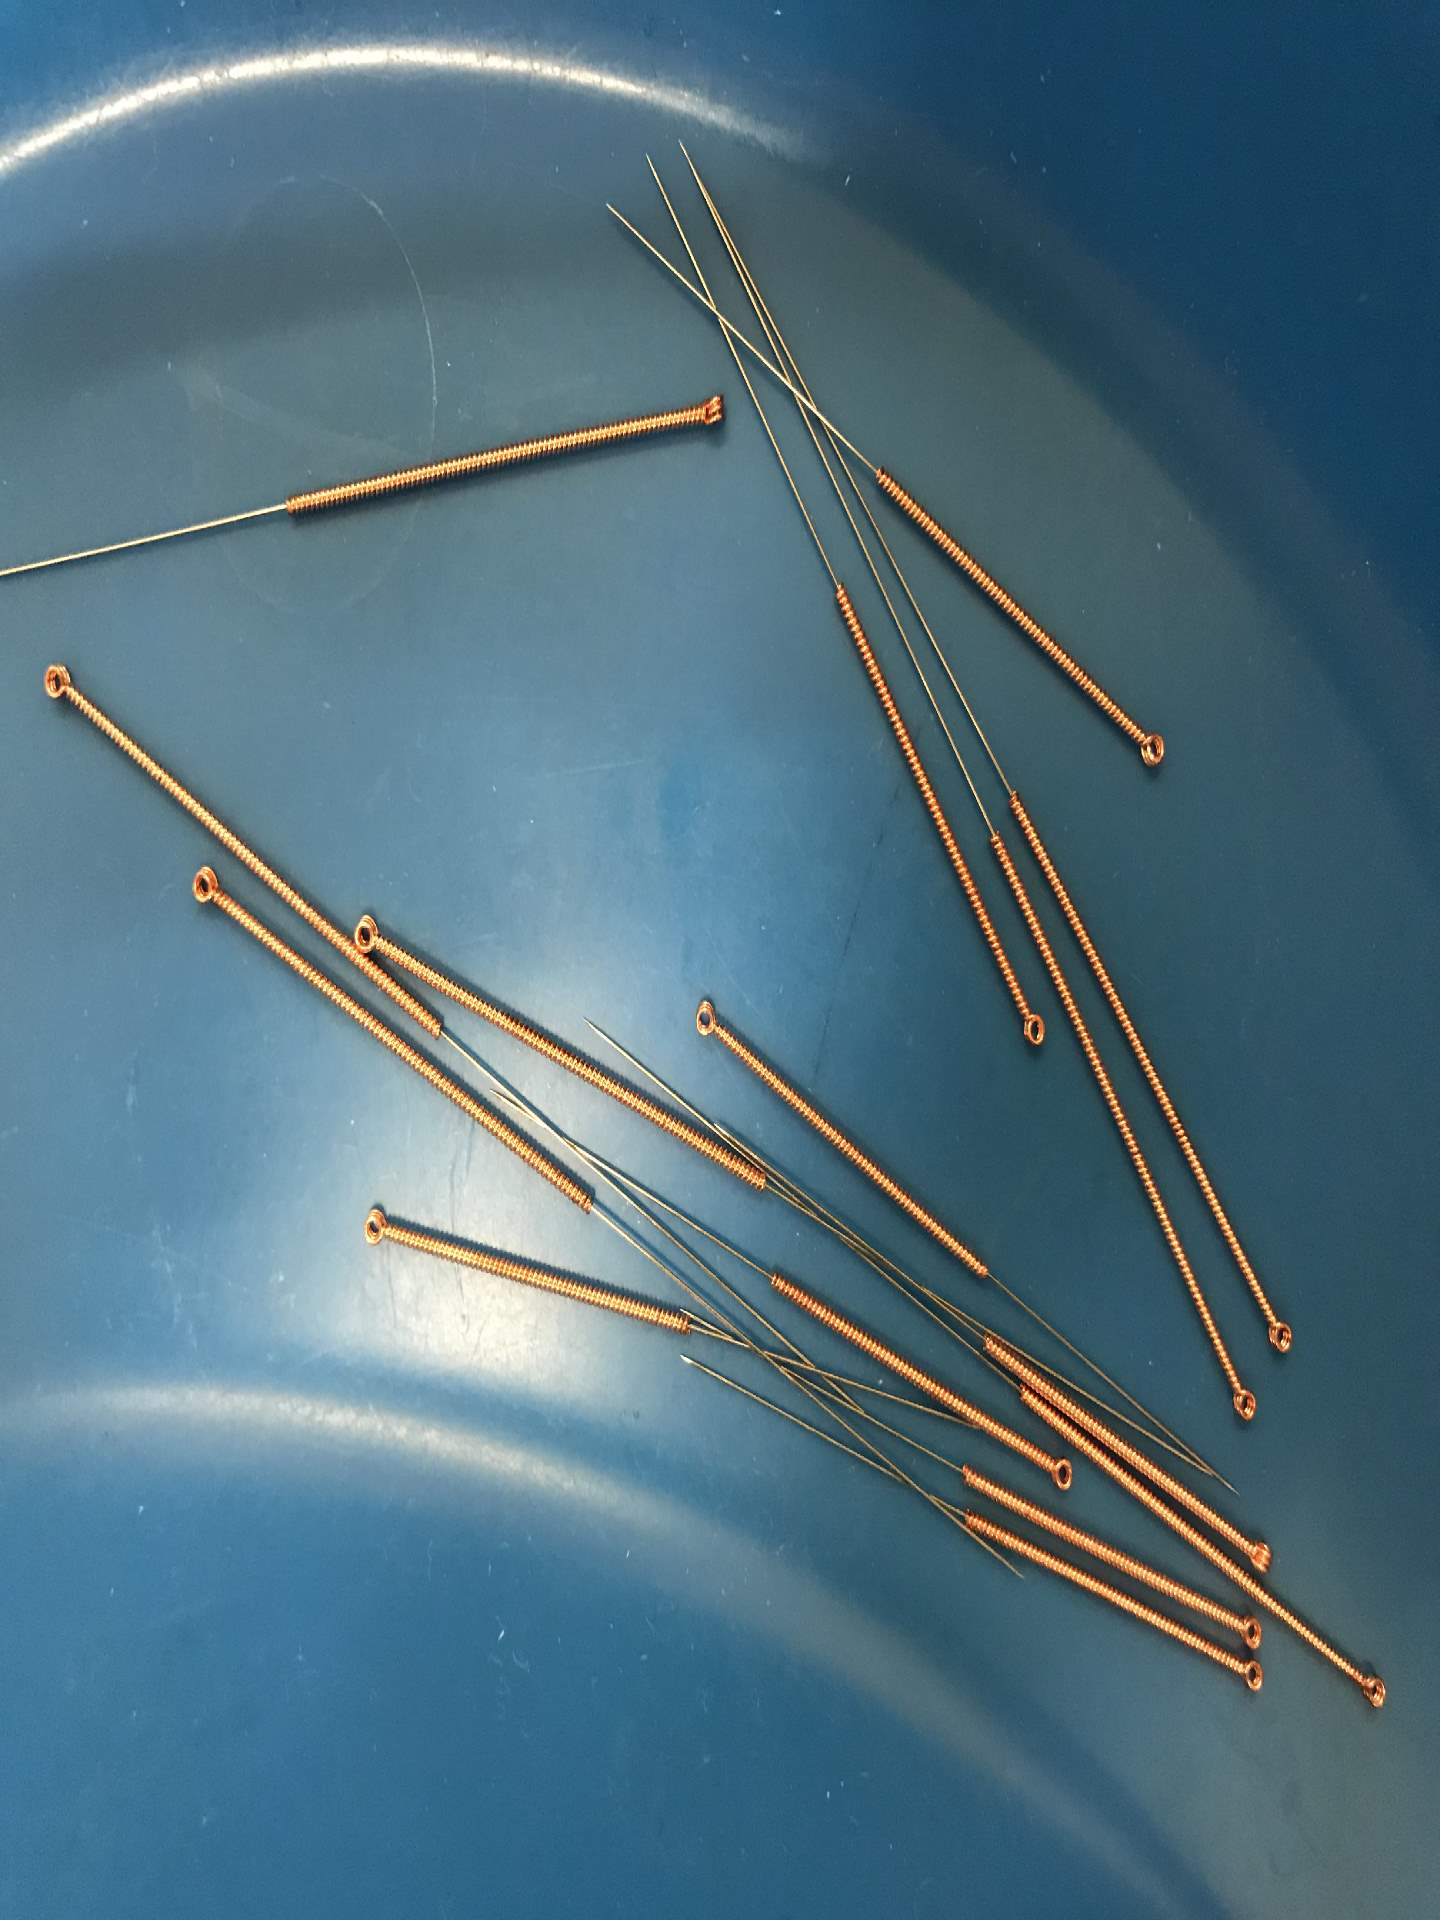needle: (1118, 717, 1178, 779), (178, 853, 234, 919), (30, 652, 88, 714), (1219, 1370, 1268, 1438), (678, 990, 734, 1046), (1009, 993, 1054, 1061), (685, 384, 738, 441), (1257, 1299, 1302, 1365), (352, 1197, 402, 1256), (1033, 1445, 1080, 1500), (351, 909, 401, 958), (1349, 1665, 1395, 1716), (1224, 1609, 1271, 1652), (1227, 1654, 1272, 1698), (1242, 1528, 1283, 1577)
